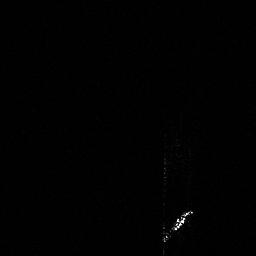ship: (159, 205, 199, 245)
